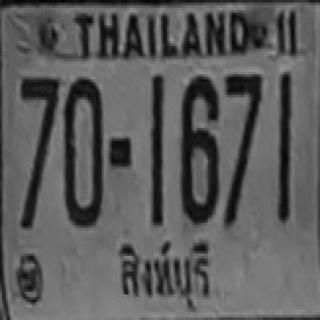N00: (63, 77, 102, 225)
N01: (149, 73, 163, 201), (277, 70, 291, 191)
N06: (179, 73, 218, 222)
N07: (223, 82, 260, 223), (224, 72, 261, 210), (20, 74, 59, 177), (224, 72, 261, 174), (20, 73, 59, 168)
P62: (116, 236, 216, 316)
